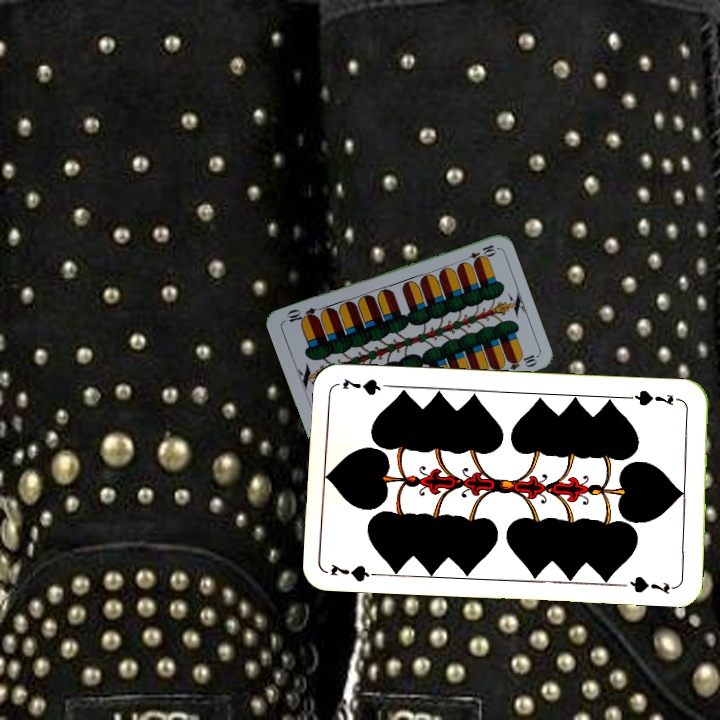E10: (459, 240, 498, 265)
G7: (327, 560, 386, 584), (626, 386, 685, 409)
